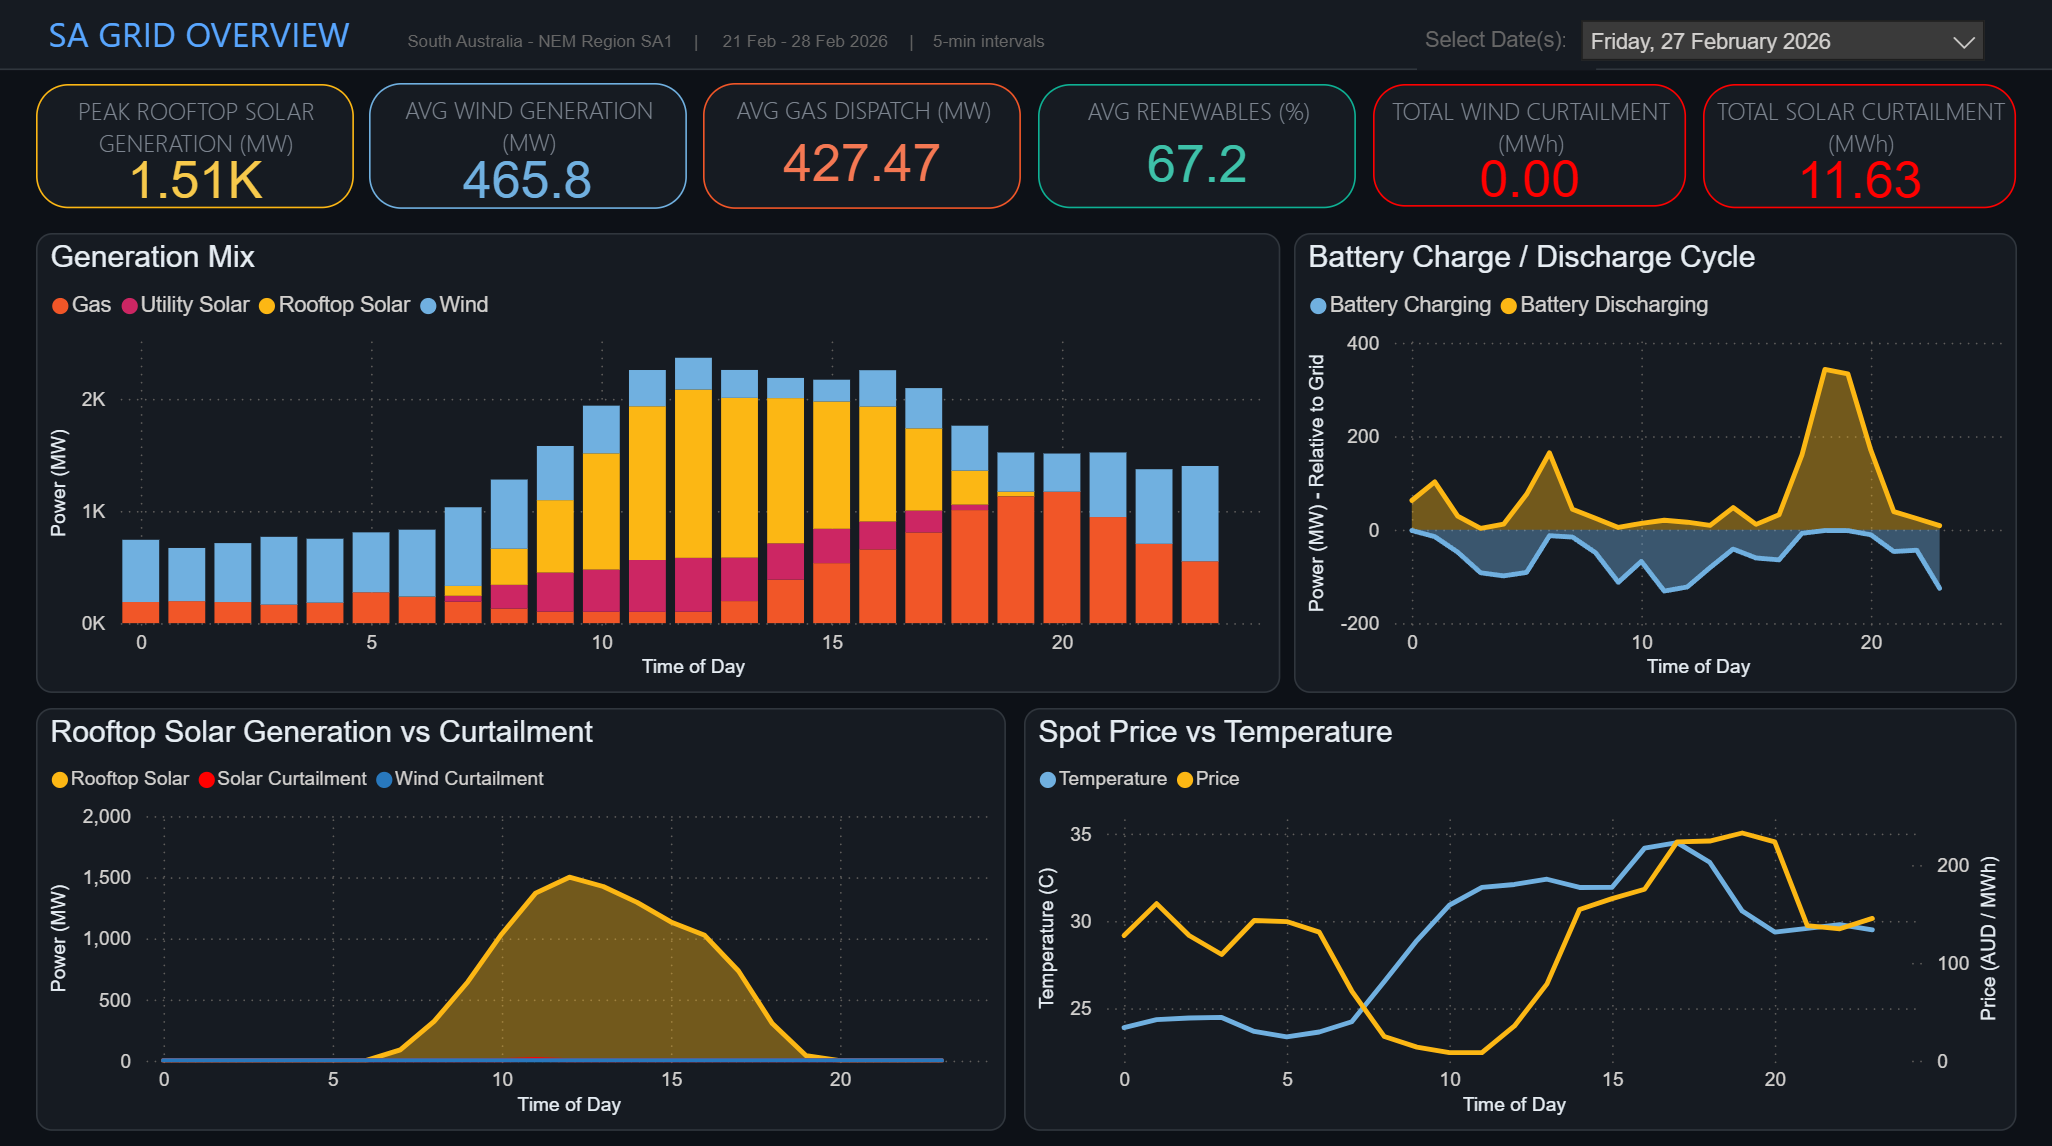

Layout of this report page (visuals, bound fields, positions):
{"tool":"powerbi","page":{"name":"Grid Overview","canvas":[1280,720],"ordinal":0},"visuals":[{"type":"lineChart","title":"Temperature''s Impact on Energy Pricing","fields":{"Category":["sapn_grid v_sa1_analysis.hour_of_day"],"Y":["Avg(sapn_grid v_sa1_analysis.temperature_c)"],"Y2":["Avg(sapn_grid v_sa1_analysis.price)"]},"box":[648,345.5,596.6,327],"z":0},{"type":"columnChart","title":"Generation Mix","fields":{"Category":["sapn_grid v_sa1_analysis.hour_of_day"],"Y":["Avg(sapn_grid v_sa1_analysis.total_gas_mw)","Avg(sapn_grid v_sa1_analysis.solar_rooftop_mw)","Avg(sapn_grid v_sa1_analysis.solar_utility_mw)","Avg(sapn_grid v_sa1_analysis.wind_mw)"]},"box":[31.2,345.5,609.2,327],"z":1000},{"type":"textbox","box":[0,0,1280,54.7],"z":2000},{"type":"card","title":"AVG RENEWABLES PERCENTAGE %","fields":{"Values":["Avg(sapn_grid v_sa1_analysis.renewable_pct)"]},"box":[239.1,82.8,180.9,110.4],"z":3000},{"type":"card","title":"AVG ROOFTOP SOLAR AT PEAK HOUR (MW)","fields":{"Values":["Avg(sapn_grid v_sa1_analysis.solar_rooftop_mw)"]},"box":[31.4,82.8,180.9,110.4],"z":4000},{"type":"card","title":"AVG WIND GENERATION (MW)","fields":{"Values":["Avg(sapn_grid v_sa1_analysis.wind_mw)"]},"box":[31.4,211.5,180.9,110.4],"z":5000},{"type":"card","title":"AVG GAS DISPATCH (MW)","fields":{"Values":["Avg(sapn_grid v_sa1_analysis.total_gas_mw)"]},"box":[239.1,211.5,180.9,110.4],"z":6000},{"type":"lineChart","title":"Rooftop Solar Usage vs Curtailment","fields":{"Category":["sapn_grid v_sa1_analysis.hour_of_day"],"Y":["Avg(sapn_grid v_sa1_analysis.solar_rooftop_mw)","Avg(sapn_grid v_sa1_analysis.solar_curtailment_mw)","Avg(sapn_grid v_sa1_analysis.wind_curtailment_mw)"]},"box":[466,82.6,575.5,239.3],"z":7000},{"type":"textbox","box":[883.4,18.2,111.3,30.6],"z":7500},{"type":"card","title":"AVG SOLAR CURTAILMENT (MW)","fields":{"Values":["Avg(sapn_grid v_sa1_analysis.solar_curtailment_mw)"]},"box":[1063.4,82.6,181.2,110.4],"z":8000},{"type":"card","title":"AVG WIND CURTAILMENT (MW)","fields":{"Values":["Avg(sapn_grid v_sa1_analysis.wind_curtailment_mw)"]},"box":[1063.4,211.5,181.2,110.4],"z":9000},{"type":"slicer","fields":{"Values":["sapn_grid v_sa1_analysis.date_only"]},"box":[975.1,8,270,38.6],"z":10000}]}

Visuals, with their boxes in screenshot pixels (x1, y1, x2, y2), scaled from the page's 1280x720 canvas onto the 2052x1146 screenshot:
"Temperature''s Impact on Energy Pricing" lineChart: [left=1039, top=550, right=1995, bottom=1070]
"Generation Mix" columnChart: [left=50, top=550, right=1027, bottom=1070]
textbox: [left=0, top=0, right=2051, bottom=87]
"AVG RENEWABLES PERCENTAGE %" card: [left=383, top=132, right=673, bottom=308]
"AVG ROOFTOP SOLAR AT PEAK HOUR (MW)" card: [left=50, top=132, right=340, bottom=308]
"AVG WIND GENERATION (MW)" card: [left=50, top=337, right=340, bottom=512]
"AVG GAS DISPATCH (MW)" card: [left=383, top=337, right=673, bottom=512]
"Rooftop Solar Usage vs Curtailment" lineChart: [left=747, top=131, right=1670, bottom=512]
textbox: [left=1416, top=29, right=1595, bottom=78]
"AVG SOLAR CURTAILMENT (MW)" card: [left=1705, top=131, right=1995, bottom=307]
"AVG WIND CURTAILMENT (MW)" card: [left=1705, top=337, right=1995, bottom=512]
slicer - sapn_grid v_sa1_analysis.date_only: [left=1563, top=13, right=1996, bottom=74]
